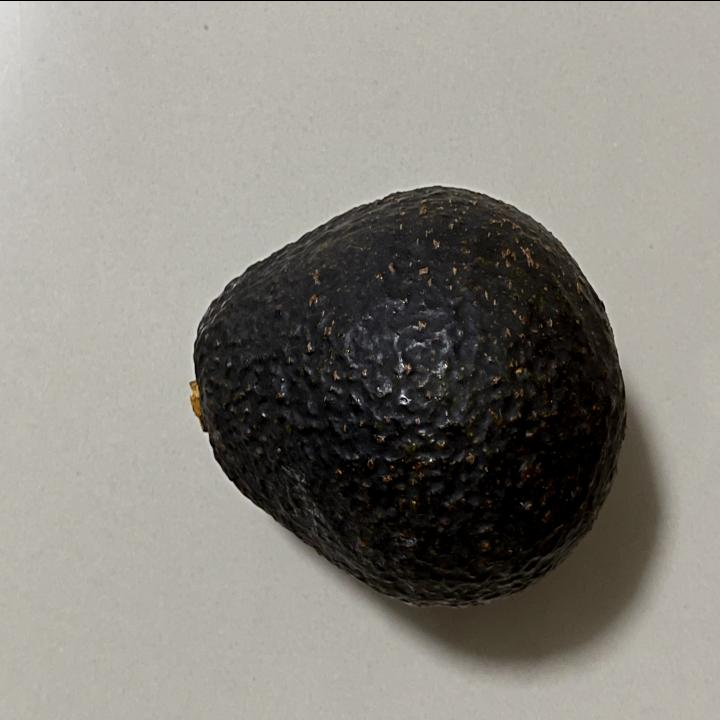Level2: (184, 176, 633, 618)
